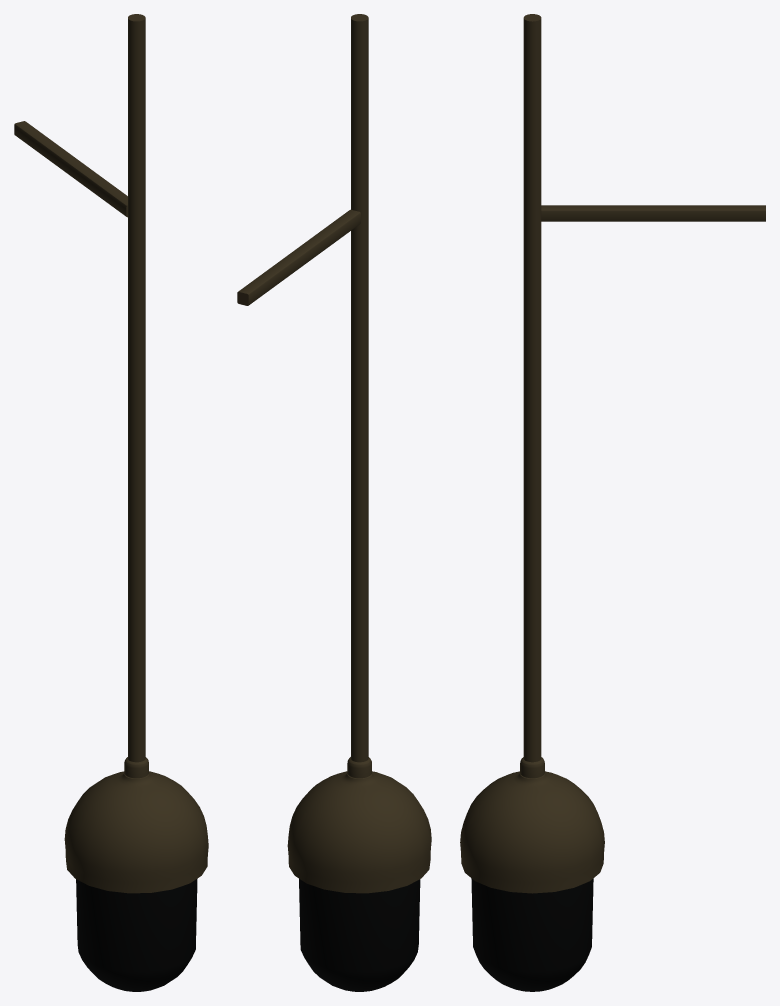
File: cctv_camera1.fbx
3 renders of one model, left to right at view 1: azimuth 30°, elevation 25°; view 2: azimuth 150°, elevation 25°; view 3: azimuth 270°, elevation 25°, orthographic.
Visible parts, largest first — view 1: cctv_camera, Object001; view 2: cctv_camera, Object001; view 3: cctv_camera, Object001.
Boxes of the visible parts, x1,y1,x2,y2 form: cctv_camera: [14, 121, 208, 991]; Object001: [128, 14, 145, 762]; cctv_camera: [237, 209, 431, 991]; Object001: [351, 14, 368, 762]; cctv_camera: [460, 205, 765, 991]; Object001: [523, 14, 541, 762].
Bounding box in the file's own units: 0.2 × 0.4222 × 1.48.
